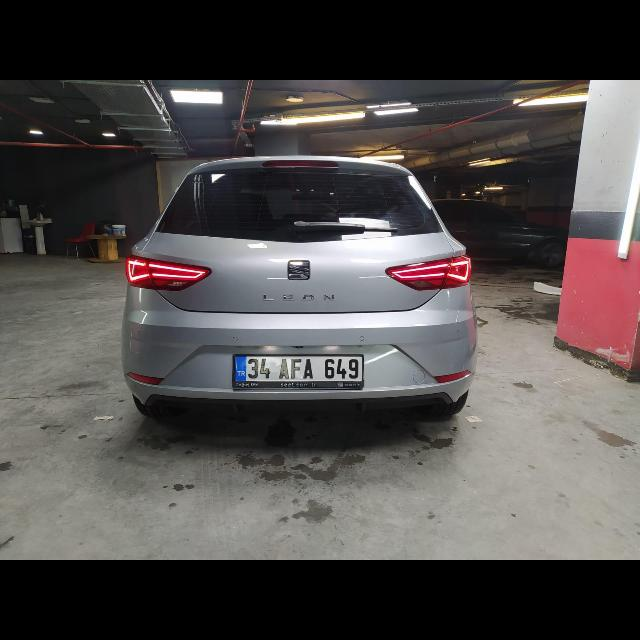Plaka: (232, 354, 362, 380)
